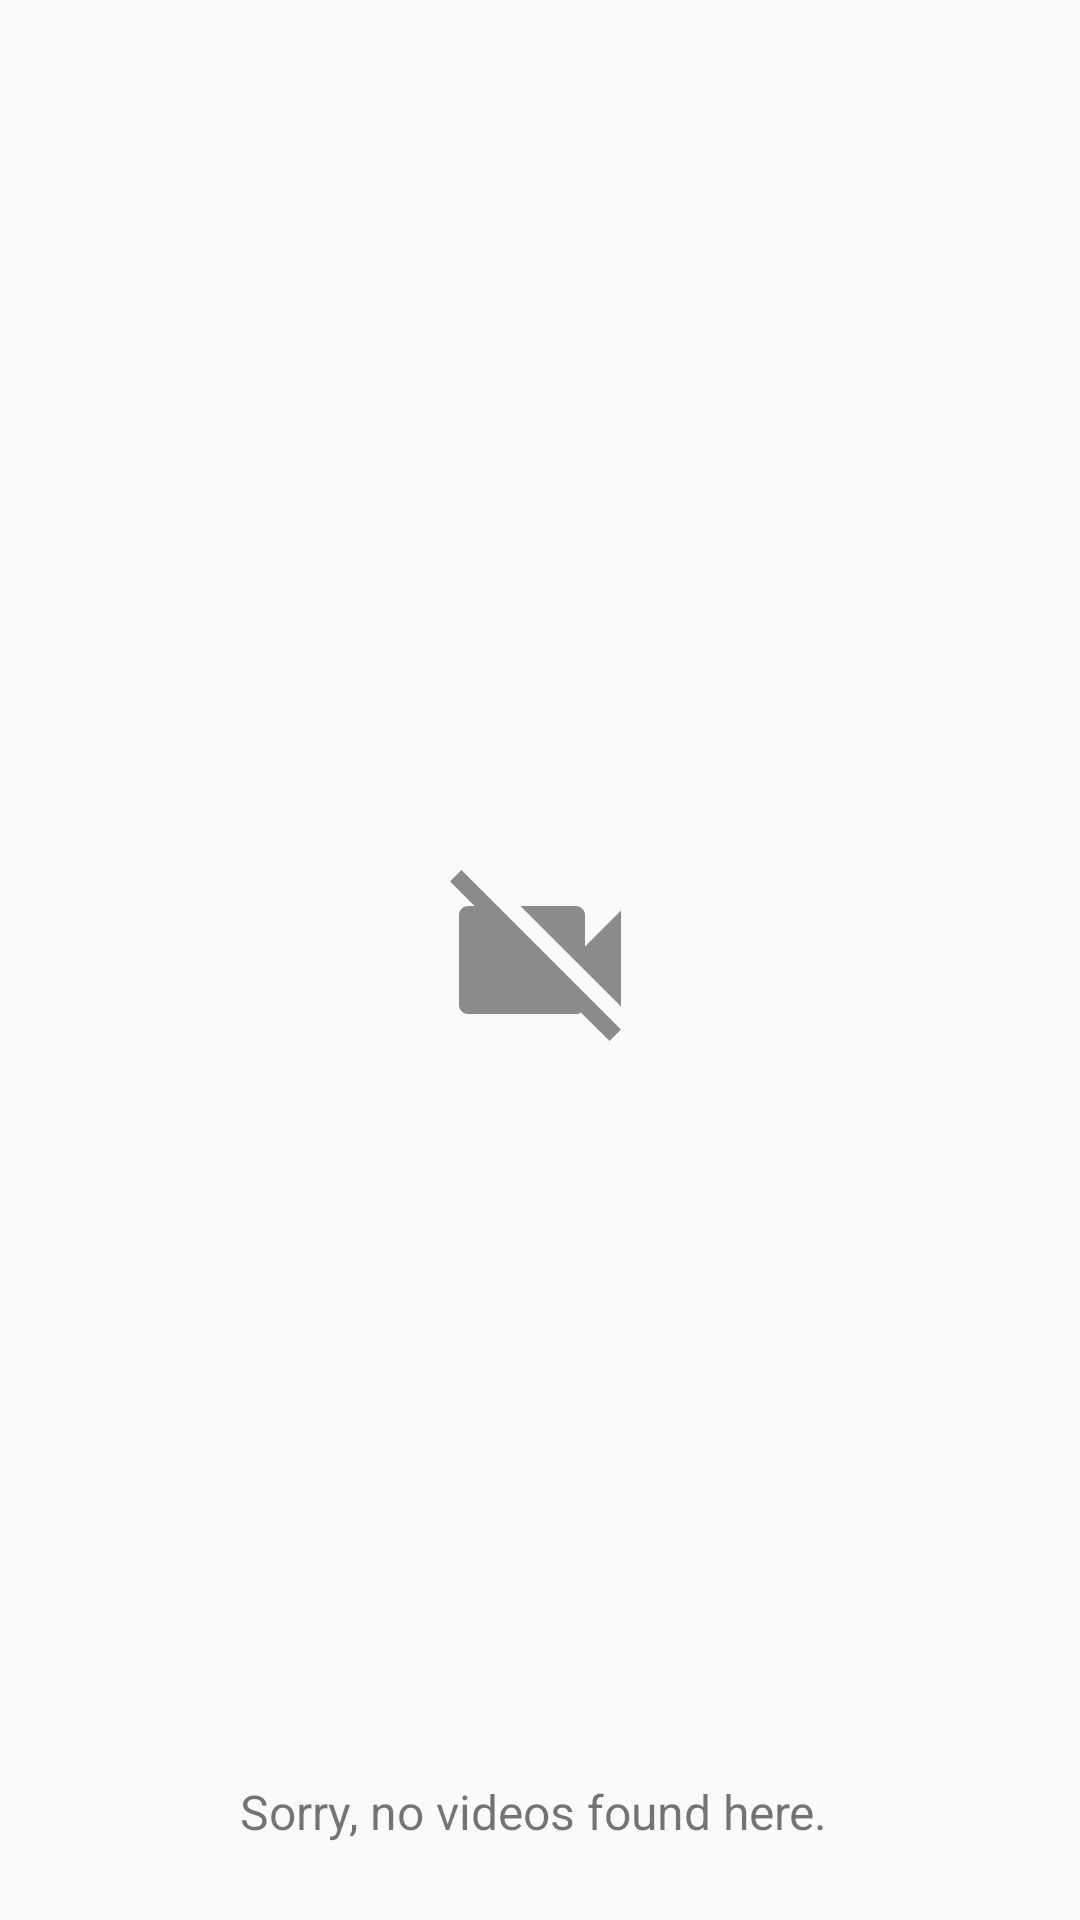

Point at icon controls on the screen. Image size 1080 × 1920, points as point (x, y).
no videos: point (535, 955)
